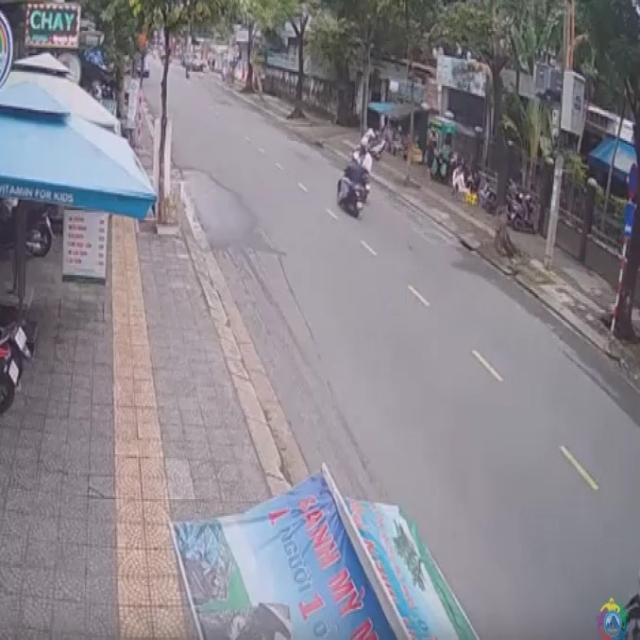motorbike: (339, 154, 361, 213), (358, 144, 375, 197)
